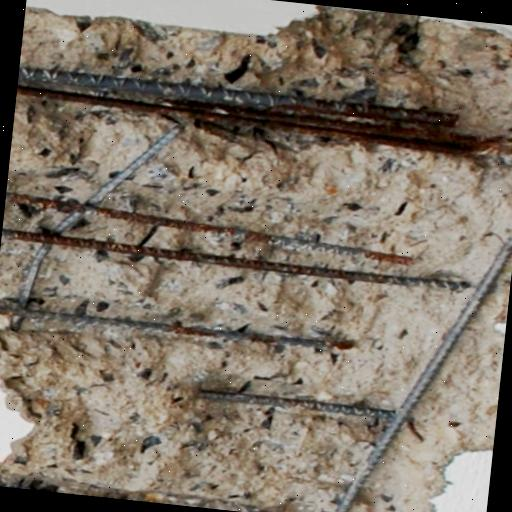spalling: (0, 2, 512, 512)
